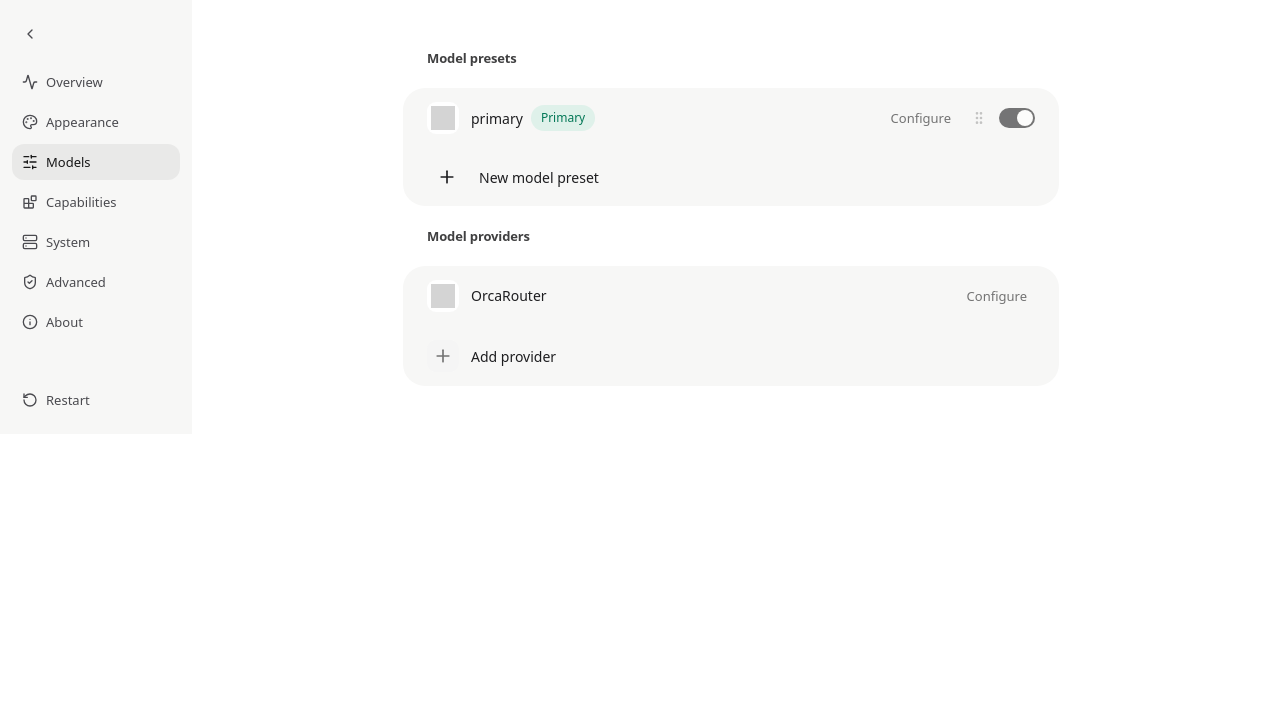
Scenario: Settings models › defers the OrcaRouter catalog until the user searches
Click the button "primary Primary Configure" at coordinates (443, 118), box left=427, top=102, right=959, bottom=134
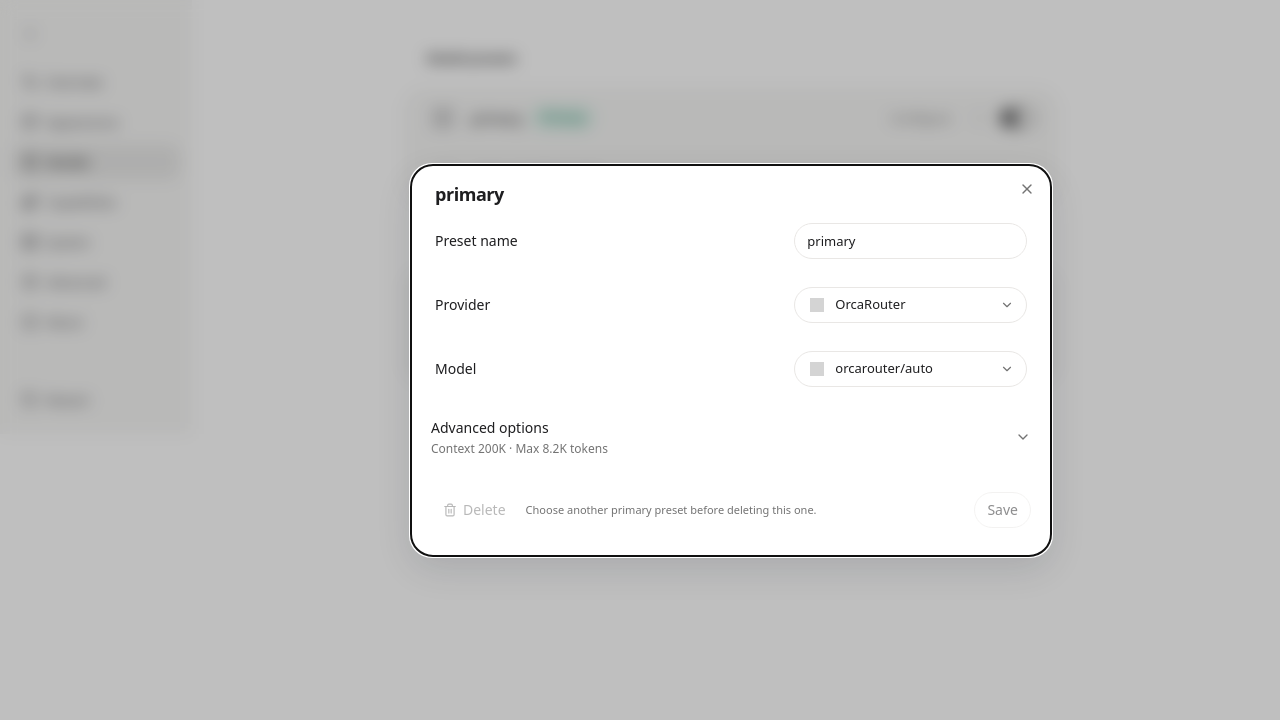
Click the button "orcarouter/auto" at coordinates (911, 368), box left=794, top=350, right=1027, bottom=386
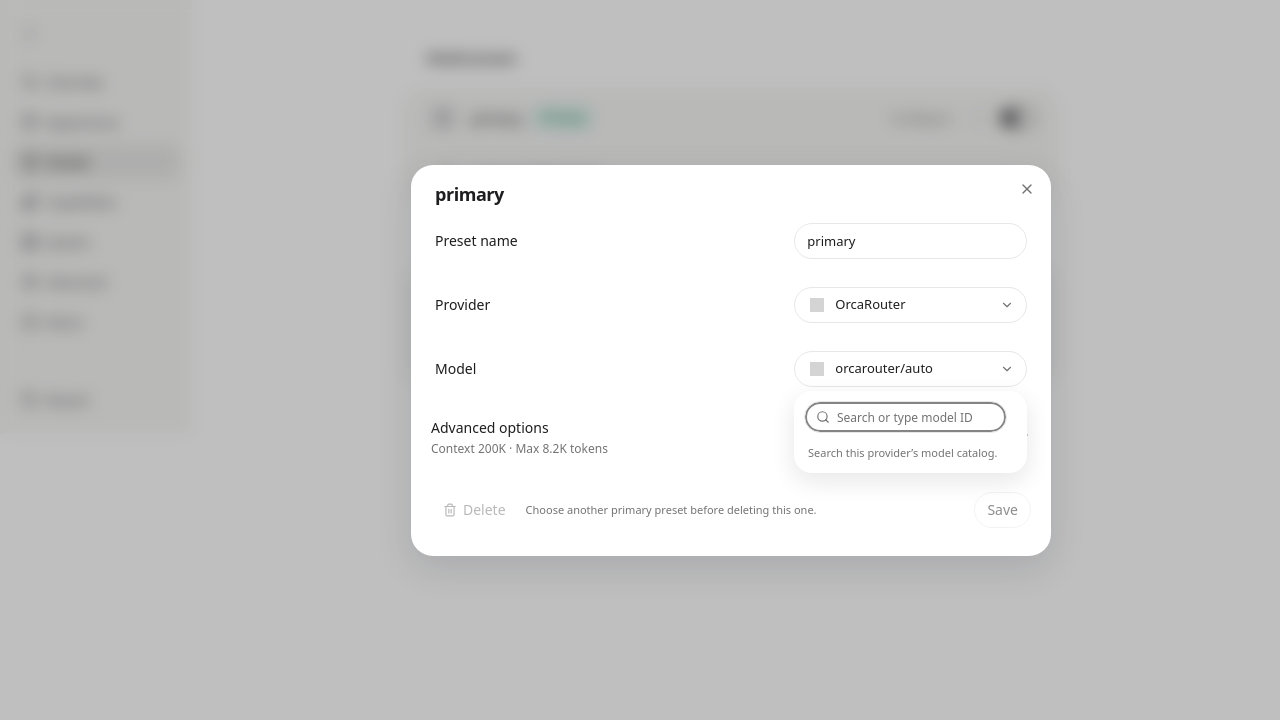
Result: the text "Search this provider’s model catalog." is shown at left=808, top=445, right=998, bottom=460
Type "cl" into the dropdown with placeholder "Search or type model ID" at coordinates (905, 417), box left=804, top=401, right=1007, bottom=433
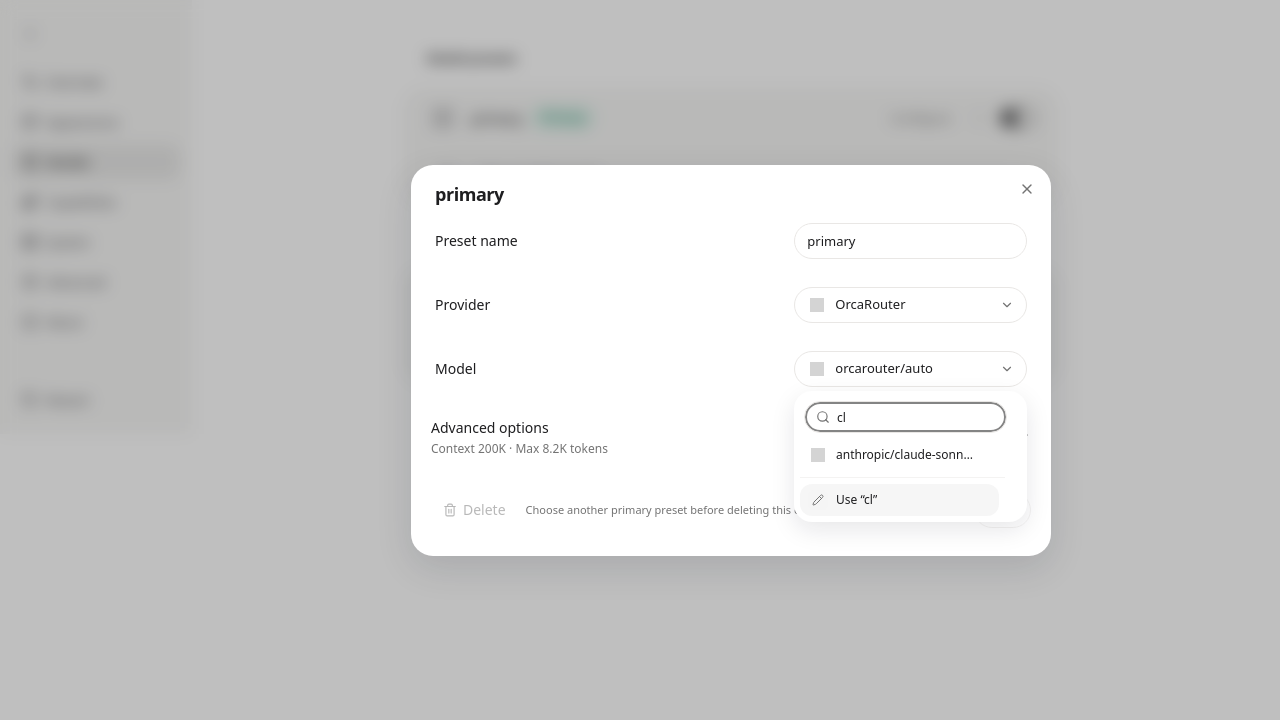
Result: the text "anthropic/claude-sonnet-4.6" is shown at left=836, top=446, right=975, bottom=464
